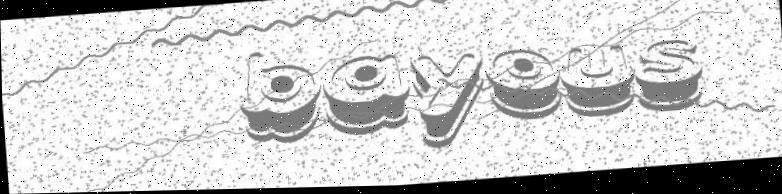a: (321, 55, 410, 138)
b: (235, 50, 323, 146)
o: (484, 49, 562, 125)
s: (633, 42, 705, 116)
u: (560, 47, 635, 120)
y: (410, 55, 486, 150)
